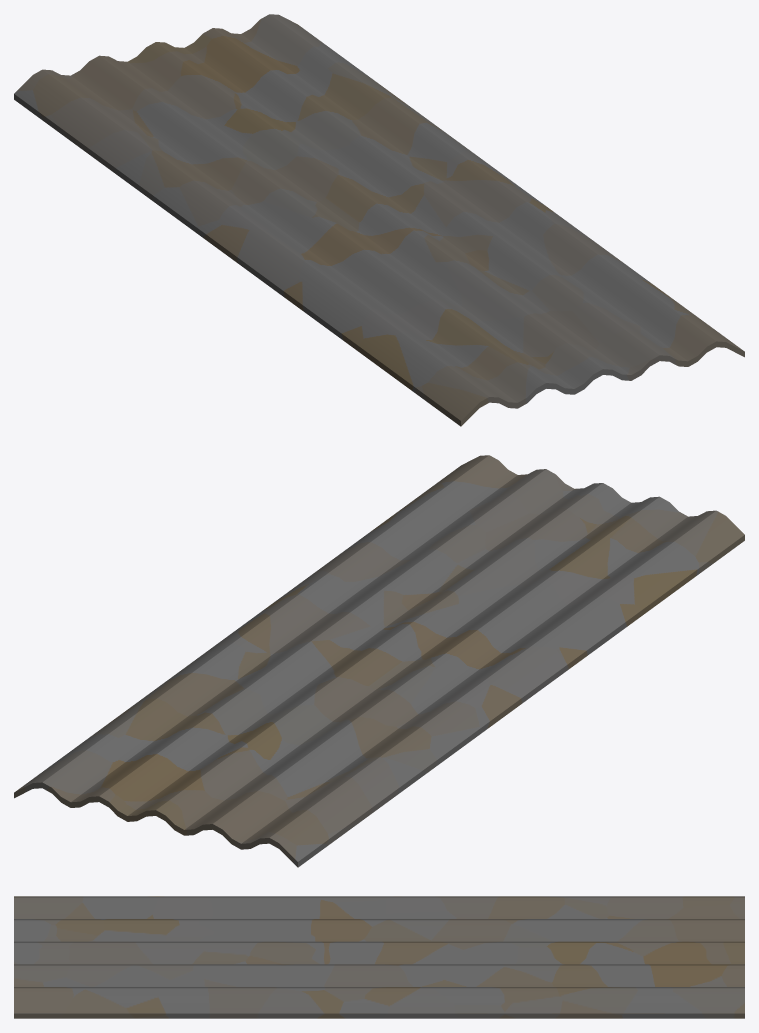
File: Chapa.fbx
3 renders of one model, top to bottom at view 1: azimuth 30°, elevation 25°; view 2: azimuth 150°, elevation 25°; view 3: azimuth 270°, elevation 25°, orthographic. The views are drawn at different scales.
Visible parts, largest first — view 1: Chapa; view 2: Chapa; view 3: Chapa.
Boxes of the visible parts, <box> form: Chapa: <box>14,14,744,426</box>; Chapa: <box>14,455,744,867</box>; Chapa: <box>14,896,744,1018</box>.
Bounding box in the file's own units: 110 × 8.54 × 300.
Materials: 1 (1 with a texture image).
